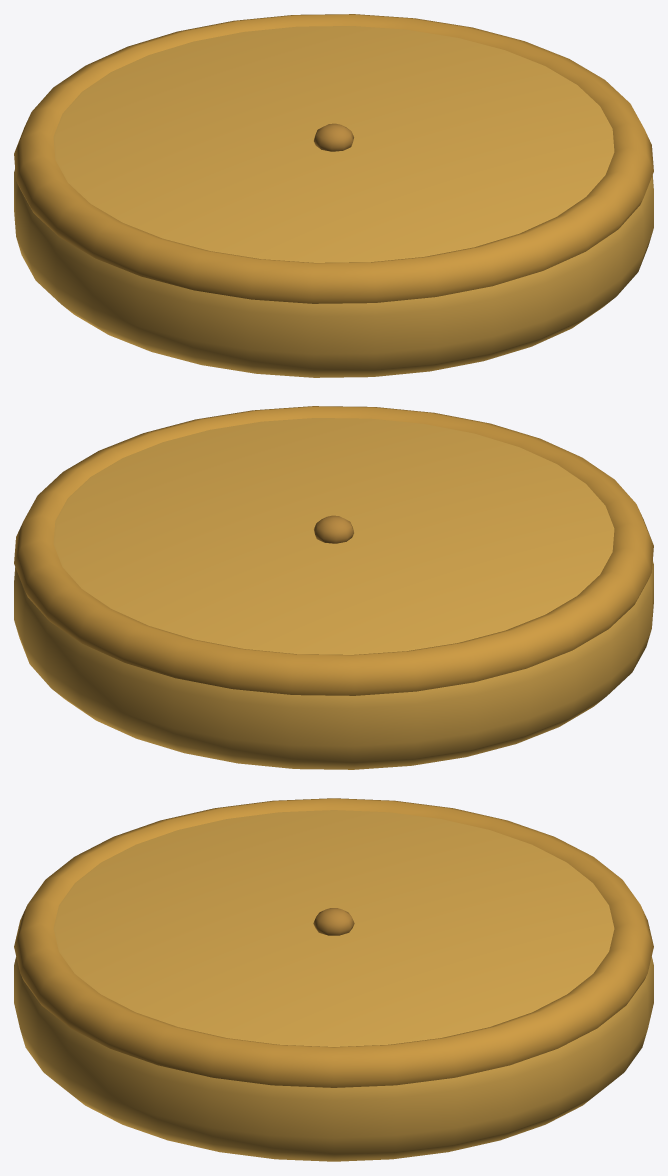
The model's file is floorCushion.glb.
3 renders of one model, top to bottom at view 1: azimuth 30°, elevation 25°; view 2: azimuth 150°, elevation 25°; view 3: azimuth 270°, elevation 25°, orthographic.
Parts seen in each view (by area): view 1: seat; view 2: seat; view 3: seat.
Boxes of the visible parts, x1,y1,x2,y2 form: seat: (14, 14, 653, 377); seat: (14, 406, 653, 769); seat: (14, 798, 653, 1161).
Size of the model in its own units: 0.62 by 0.139 by 0.62.
